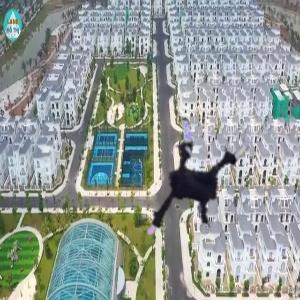drone: (115, 99, 264, 248)
